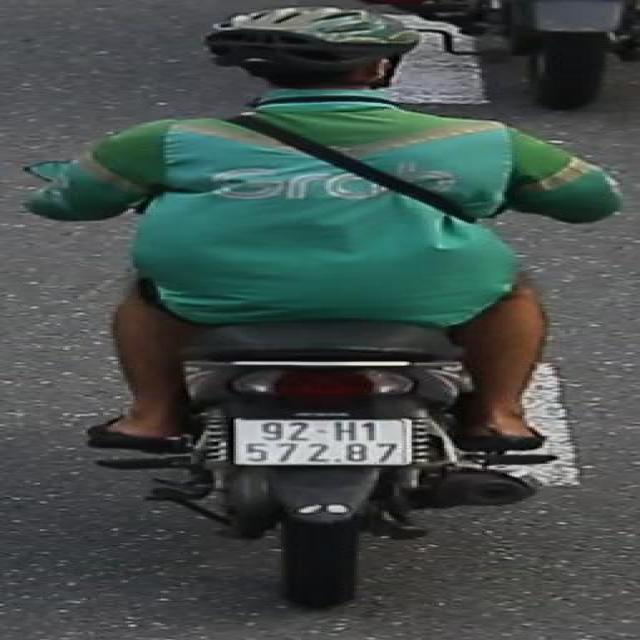LP: (225, 412, 423, 468)
helmet: (192, 5, 430, 89)
